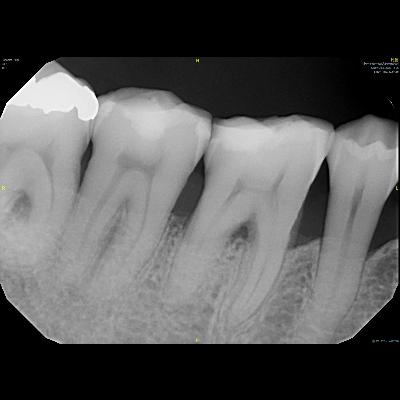tooth: (292, 111, 400, 343)
